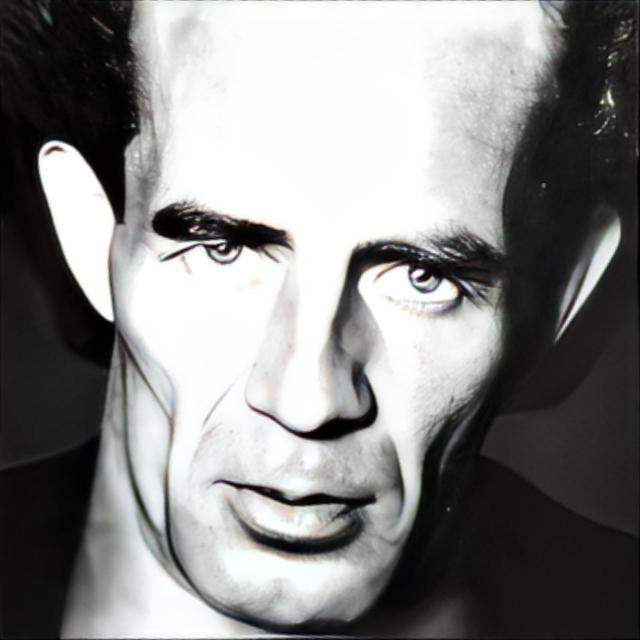anger: (108, 0, 517, 632)
